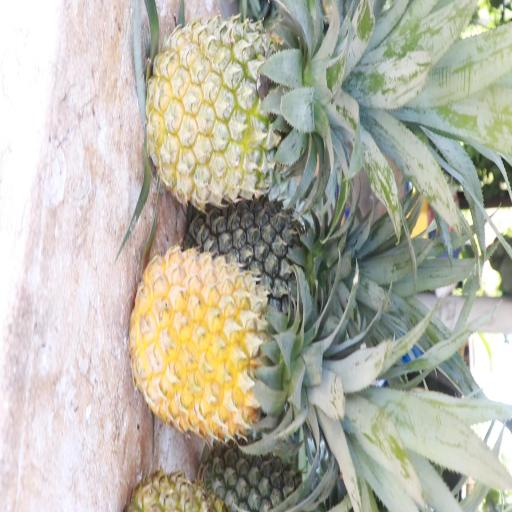------------------------------: (150, 19, 334, 204)
Pineapple - v8 v1: (134, 248, 307, 436)
